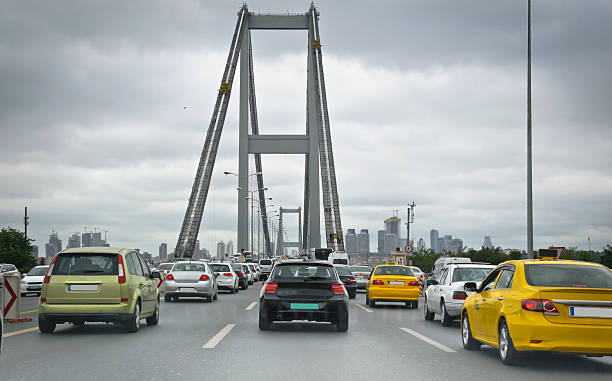bus: (309, 246, 335, 277)
car: (466, 261, 612, 362), (39, 250, 159, 330), (260, 260, 348, 332), (424, 265, 488, 320), (369, 266, 417, 310), (165, 261, 214, 302), (210, 261, 236, 293), (21, 263, 47, 294), (334, 263, 356, 296), (349, 264, 372, 291), (233, 264, 249, 291)
right turn: (3, 275, 20, 322)
